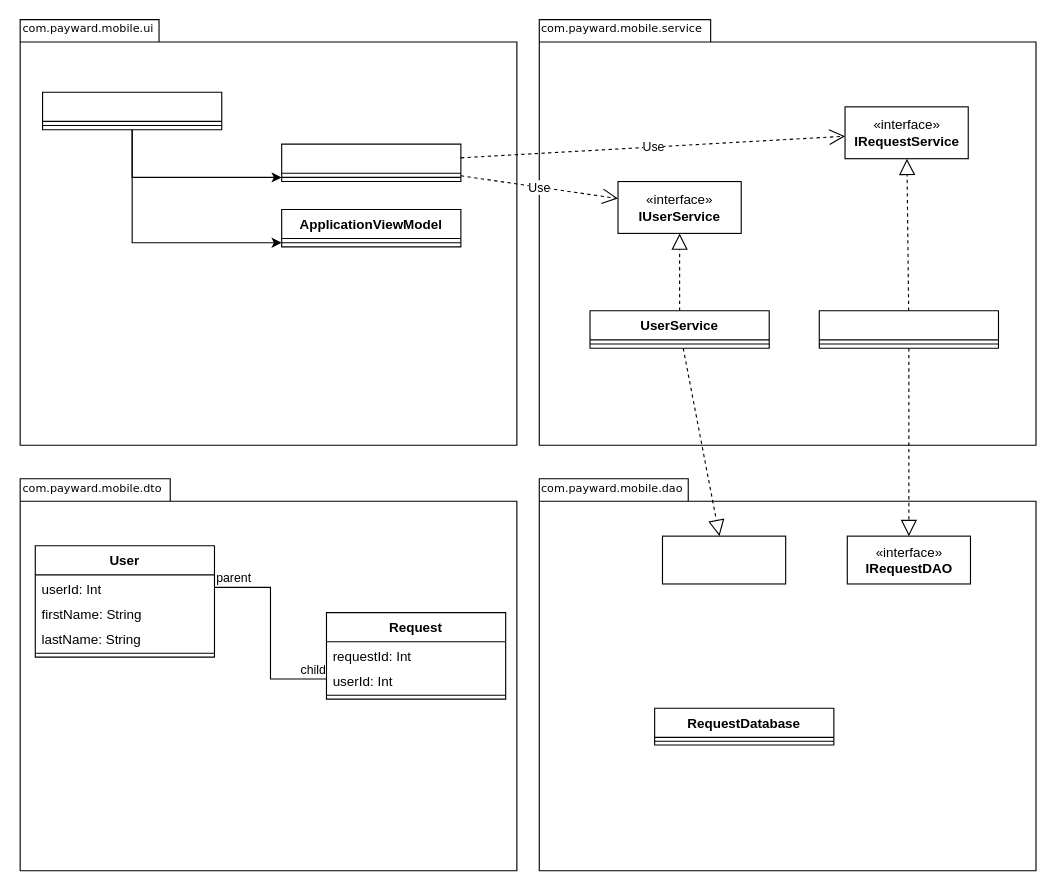
Some shapes in this 1055 by 890 pixel diagram are drawn without their labels. Here are the shapes that lost their labels. From the top down, the box of each, then its label:
(41, 91, 222, 130): MainActivity
(281, 143, 461, 182): ViewModel
(818, 310, 998, 348): RequestService
(661, 535, 786, 584): «interface» IUserDAO
